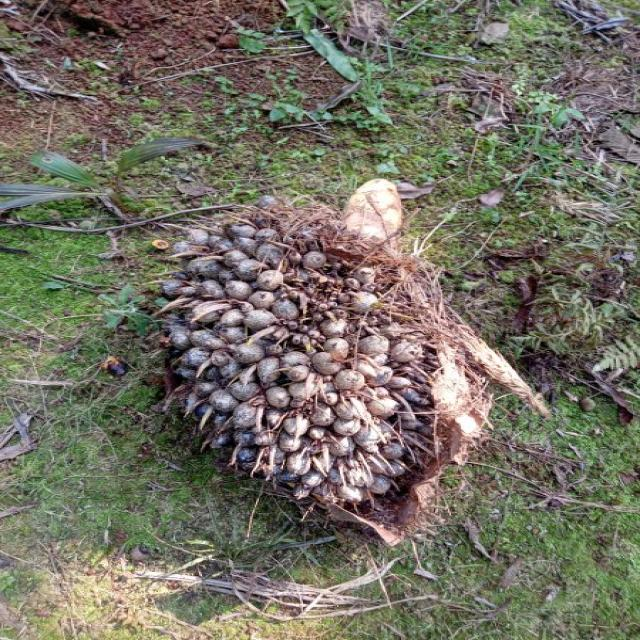fraksi 00: (68, 134, 551, 570)
